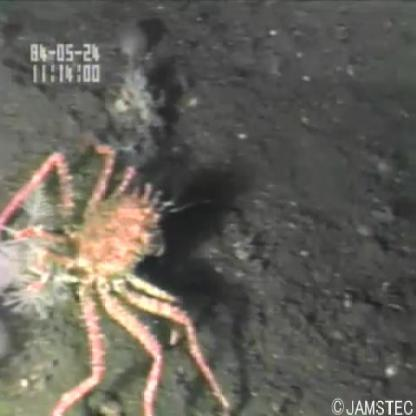Bio: (1, 134, 236, 415)
